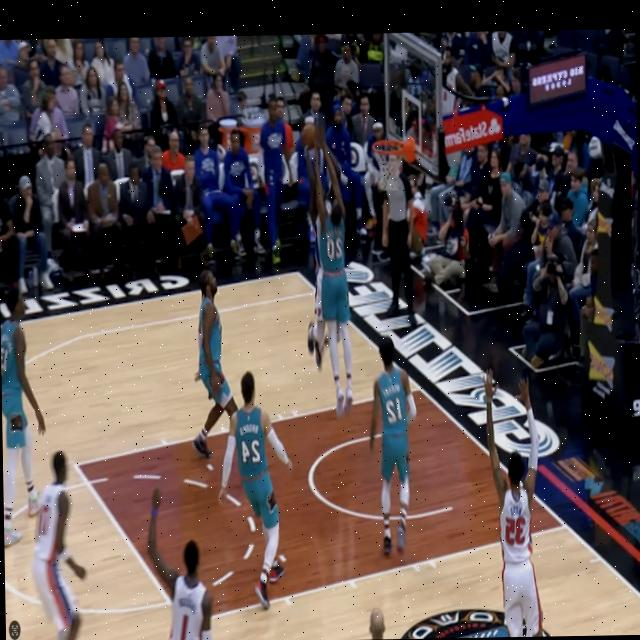foul: (292, 119, 359, 418)
no foul: (177, 257, 284, 594), (145, 489, 216, 640)
